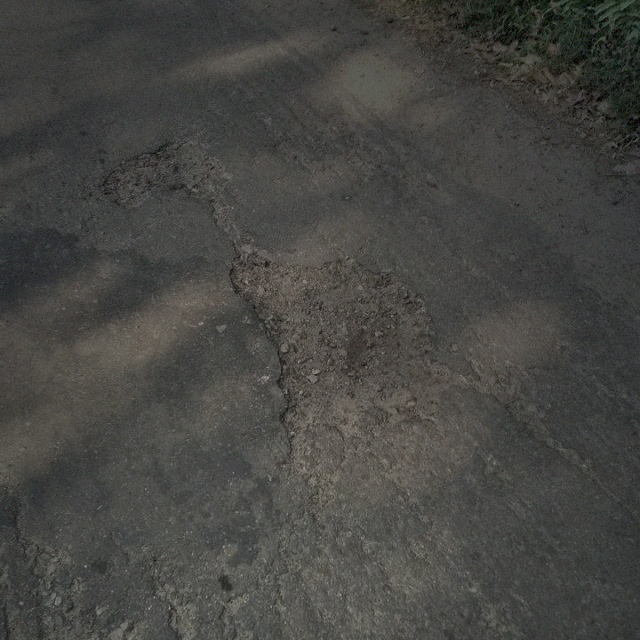pothole: (225, 246, 448, 444), (97, 130, 224, 207)
